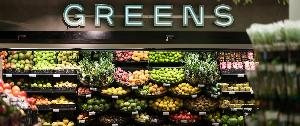apple: (166, 111, 200, 125), (32, 50, 56, 69), (30, 78, 52, 88)
avocado: (82, 96, 108, 114)
kiwi: (186, 97, 218, 111)
lime: (148, 66, 184, 84), (149, 51, 182, 65)
mango: (0, 50, 34, 70), (5, 76, 29, 88)
pear: (54, 76, 77, 90), (56, 52, 80, 64), (56, 62, 76, 72), (204, 114, 222, 124)
pineapple: (77, 52, 117, 84), (183, 50, 220, 82)
pitaya: (115, 68, 131, 84), (116, 52, 132, 62)
plum: (149, 116, 159, 124)
watermelon: (220, 112, 250, 126)
